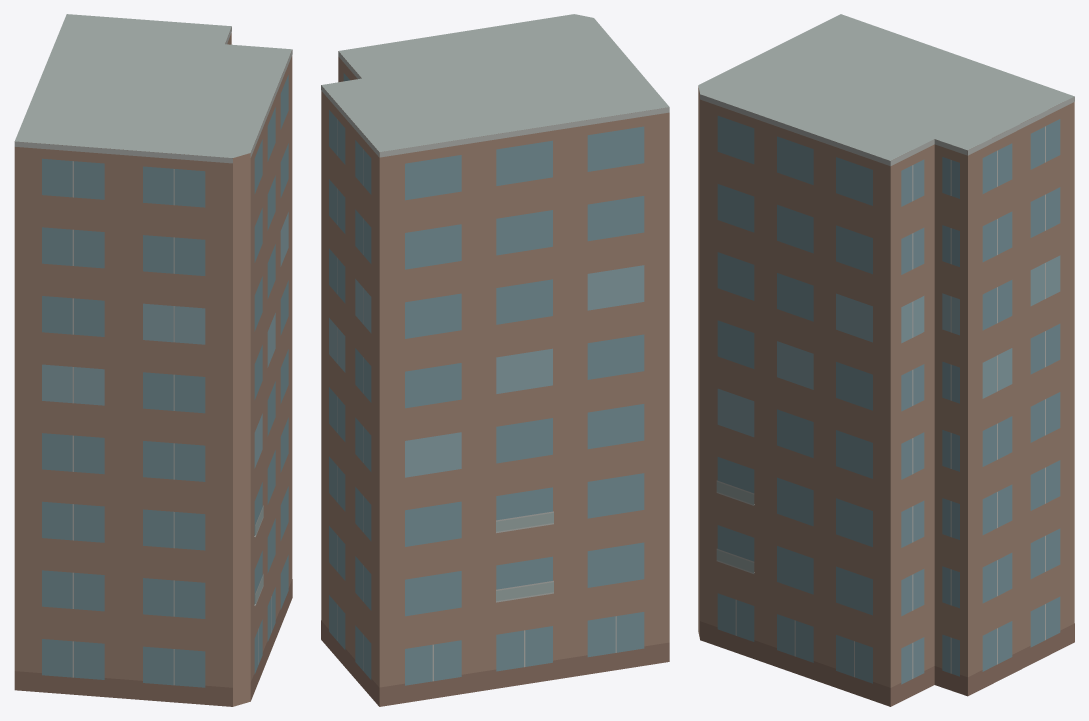
The model's file is survey-upis-32561344.glb.
3 renders of one model, left to right at view 1: azimuth 30°, elevation 25°; view 2: azimuth 150°, elevation 25°; view 3: azimuth 270°, elevation 25°, orthographic.
Parts seen in each view (by area): view 1: survey-upis-32561344.tmp; view 2: survey-upis-32561344.tmp; view 3: survey-upis-32561344.tmp.
Boxes of the visible parts, box(x1,y1,x2,y2) form: survey-upis-32561344.tmp: box(14, 14, 292, 706); survey-upis-32561344.tmp: box(321, 14, 669, 706); survey-upis-32561344.tmp: box(698, 14, 1074, 706).
Bounding box in the file's own units: 14.5 × 25.1 × 15.7.
